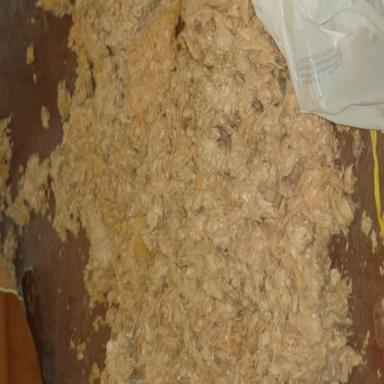plasticbag: (250, 0, 383, 136)
